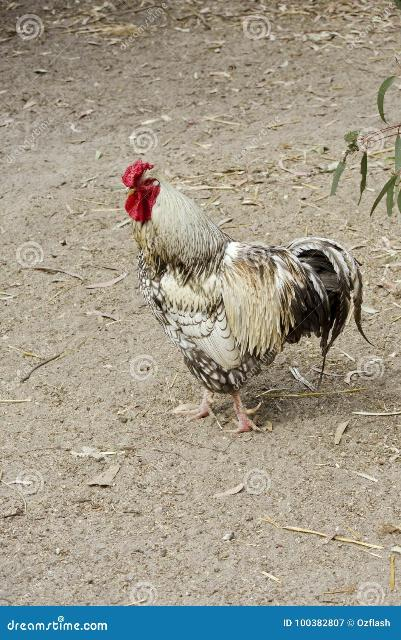Chicken: (124, 158, 364, 432)
